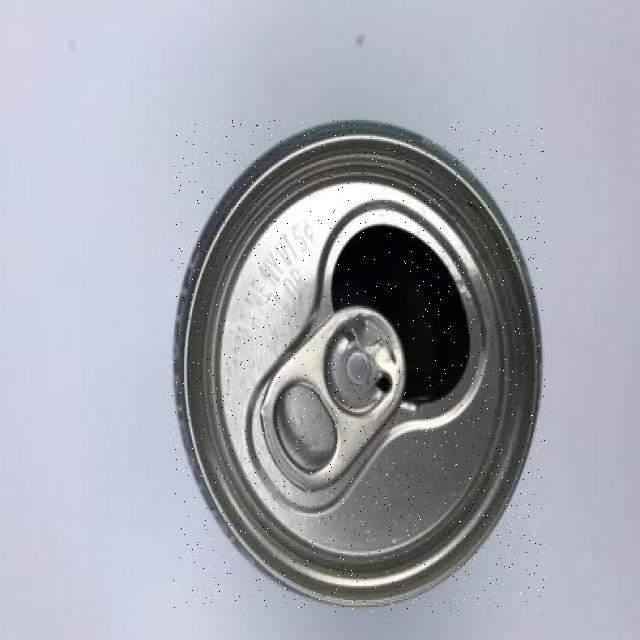metal: (172, 120, 545, 612)
